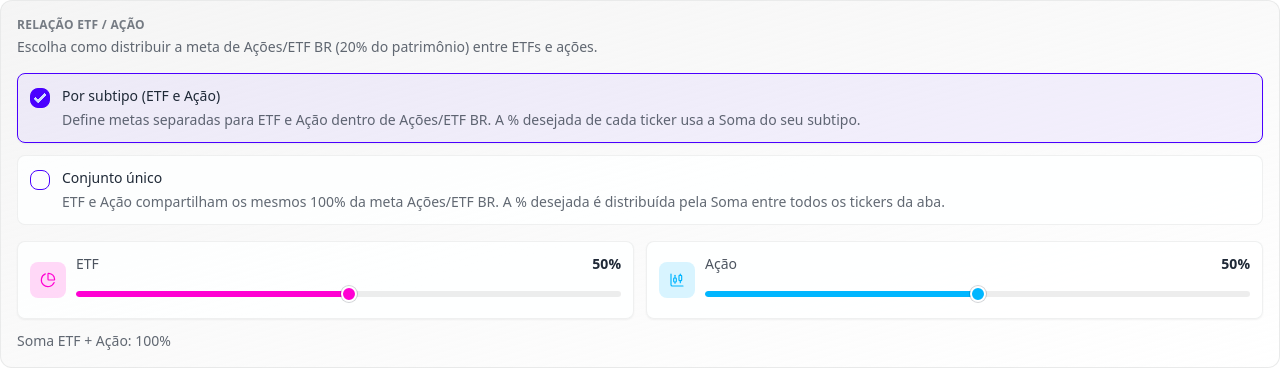
Test: RebalanceStocksSplitEditor › atualiza percentual ao mover slider no modo by_subtype
The width and height of the screenshot is (1280, 385).
Set the slider with test id "stocks-split-slider-etf" to "80". click: (507, 294)
box: [76, 282, 621, 306]
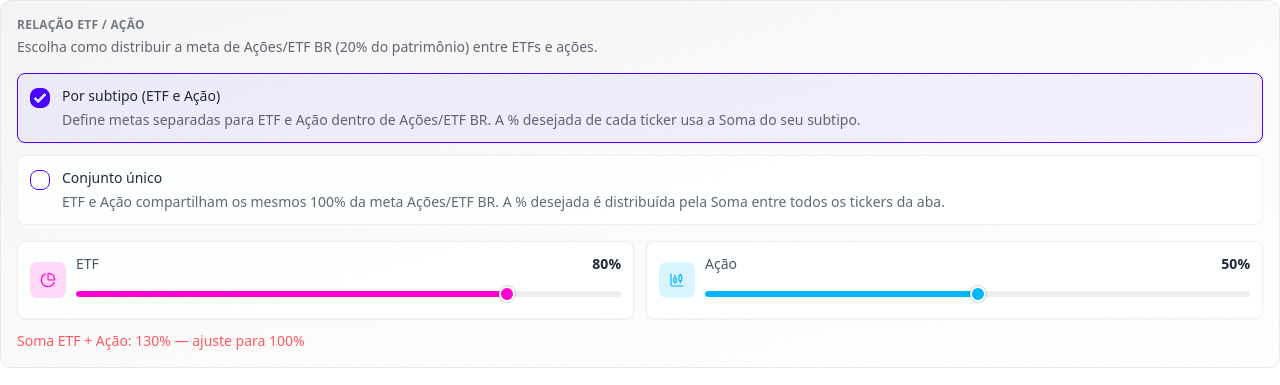
Result: the text with test id "stocks-split-sum" shows "130%" at [17, 331, 305, 350]
